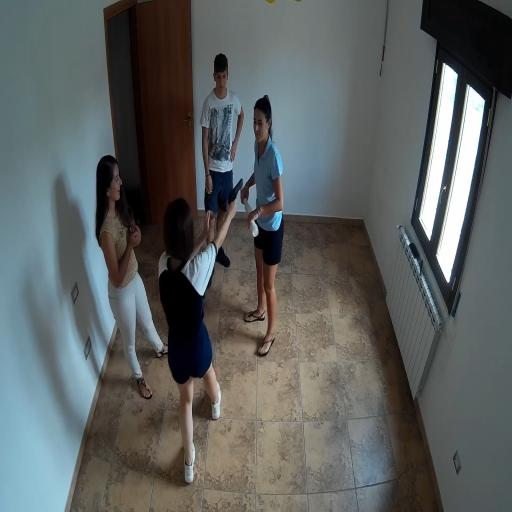violencia: (147, 90, 296, 492)
